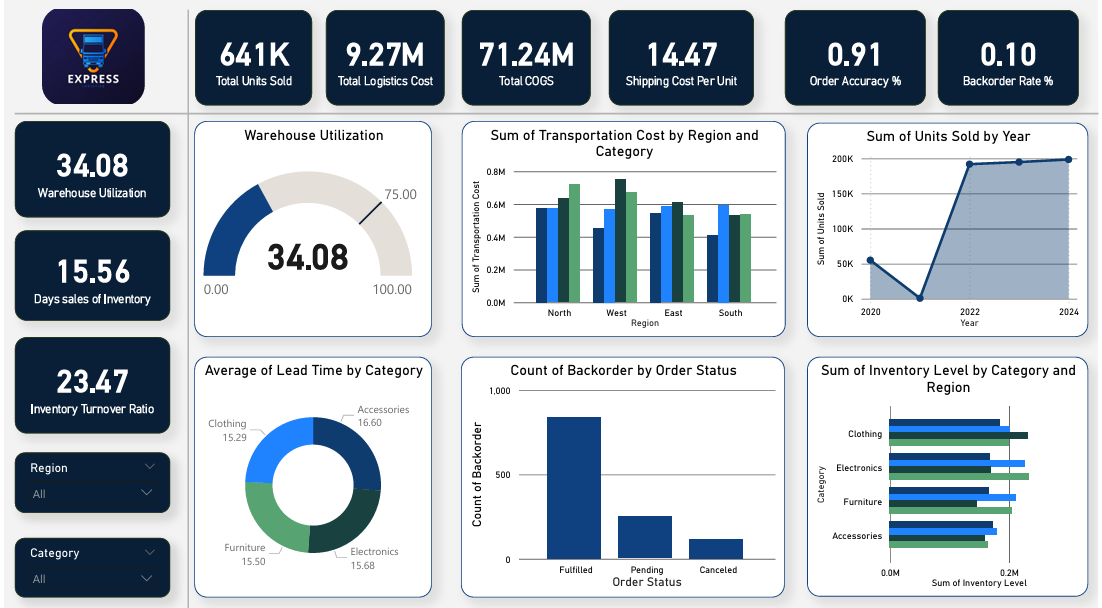

The page's visual inventory and layout, read from the dashboard file:
{"tool":"powerbi","page":{"name":"Page 1","canvas":[1280,720],"ordinal":0},"visuals":[{"type":"shape","box":[207.4,10.6,15.1,708.6],"z":0},{"type":"card","fields":{"Values":["Inventory and Supply Chain Dataset.Warehouse Utilization"]},"box":[11.8,141.1,182.2,113.1],"z":1000},{"type":"card","fields":{"Values":["Inventory and Supply Chain Dataset.Days sales of Inventory"]},"box":[11.8,268.9,182.2,105.8],"z":2000},{"type":"card","fields":{"Values":["Inventory and Supply Chain Dataset.Inventory Turnover Ratio"]},"box":[11.8,393.8,182.2,113.1],"z":3000},{"type":"slicer","fields":{"Values":["Inventory and Supply Chain Dataset.Region"]},"box":[11.8,529,182.2,70.5],"z":4000},{"type":"slicer","fields":{"Values":["Inventory and Supply Chain Dataset.Category"]},"box":[11.8,628.9,182.2,70.5],"z":5000},{"type":"gauge","fields":{"Y":["Inventory and Supply Chain Dataset.Warehouse Utilization"]},"box":[221.9,141.1,277.7,252.7],"z":6000},{"type":"clusteredColumnChart","fields":{"Y":["Sum(Inventory and Supply Chain Dataset.Transportation Cost)"],"Category":["Inventory and Supply Chain Dataset.Region"],"Series":["Inventory and Supply Chain Dataset.Category"]},"box":[534.9,141.1,379.1,252.7],"z":7000},{"type":"lineChart","fields":{"Y":["Sum(Inventory and Supply Chain Dataset.Units Sold)"],"Category":["Inventory and Supply Chain Dataset.Date.Variation.Date Hierarchy.Year"]},"box":[938.9,142.5,329.1,251.3],"z":8000},{"type":"donutChart","fields":{"Y":["Avg(Inventory and Supply Chain Dataset.Lead Time)"],"Category":["Inventory and Supply Chain Dataset.Category"]},"box":[221.9,417.3,277.7,282.1],"z":9000},{"type":"columnChart","fields":{"Y":["CountNonNull(Inventory and Supply Chain Dataset.Backorder)"],"Category":["Inventory and Supply Chain Dataset.Order Status"]},"box":[534.3,417.1,378.6,281.4],"z":10000},{"type":"clusteredBarChart","fields":{"Y":["Sum(Inventory and Supply Chain Dataset.Inventory Level)"],"Category":["Inventory and Supply Chain Dataset.Category"],"Series":["Inventory and Supply Chain Dataset.Region"]},"box":[939,417,329,281],"z":11000},{"type":"card","fields":{"Values":["Inventory and Supply Chain Dataset.Total Units Sold"]},"box":[222.6,10.6,137.8,112.1],"z":12000},{"type":"card","fields":{"Values":["Inventory and Supply Chain Dataset.Total Logistics Cost"]},"box":[375.5,10.6,139.3,112.1],"z":13000},{"type":"card","fields":{"Values":["Inventory and Supply Chain Dataset.Total COGS"]},"box":[534.5,10.6,151.4,112.1],"z":14000},{"type":"card","fields":{"Values":["Inventory and Supply Chain Dataset.Shipping Cost Per Unit"]},"box":[707.1,10.6,169.6,112.1],"z":15000},{"type":"card","fields":{"Values":["Inventory and Supply Chain Dataset.Order Accuracy %"]},"box":[913.1,10.6,165,112.1],"z":16000},{"type":"card","fields":{"Values":["Inventory and Supply Chain Dataset.Backorder Rate %"]},"box":[1091.7,10.6,165,112.1],"z":17000},{"type":"shape","box":[12.1,122.7,1267.4,19.7],"z":18000},{"type":"image","box":[43.9,7.6,119.6,115.1],"z":19000}]}

Visuals, with their boxes in screenshot pixels (x1, y1, x2, y2), scaled from the page's 1280x720 canvas onto the 1102x608 screenshot:
shape: (x1=179, y1=9, x2=192, y2=607)
card - Inventory and Supply Chain Dataset.Warehouse Utilization: (x1=10, y1=119, x2=167, y2=215)
card - Inventory and Supply Chain Dataset.Days sales of Inventory: (x1=10, y1=227, x2=167, y2=316)
card - Inventory and Supply Chain Dataset.Inventory Turnover Ratio: (x1=10, y1=333, x2=167, y2=428)
slicer - Inventory and Supply Chain Dataset.Region: (x1=10, y1=447, x2=167, y2=506)
slicer - Inventory and Supply Chain Dataset.Category: (x1=10, y1=531, x2=167, y2=591)
gauge - Inventory and Supply Chain Dataset.Warehouse Utilization: (x1=191, y1=119, x2=430, y2=333)
clusteredColumnChart - Sum(Inventory and Supply Chain Dataset.Transportation Cost) x Inventory and Supply Chain Dataset.Region: (x1=461, y1=119, x2=787, y2=333)
lineChart - Sum(Inventory and Supply Chain Dataset.Units Sold) x Inventory and Supply Chain Dataset.Date.Variation.Date Hierarchy.Year: (x1=808, y1=120, x2=1092, y2=333)
donutChart - Avg(Inventory and Supply Chain Dataset.Lead Time) x Inventory and Supply Chain Dataset.Category: (x1=191, y1=352, x2=430, y2=591)
columnChart - CountNonNull(Inventory and Supply Chain Dataset.Backorder) x Inventory and Supply Chain Dataset.Order Status: (x1=460, y1=352, x2=786, y2=590)
clusteredBarChart - Sum(Inventory and Supply Chain Dataset.Inventory Level) x Inventory and Supply Chain Dataset.Category: (x1=808, y1=352, x2=1092, y2=589)
card - Inventory and Supply Chain Dataset.Total Units Sold: (x1=192, y1=9, x2=310, y2=104)
card - Inventory and Supply Chain Dataset.Total Logistics Cost: (x1=323, y1=9, x2=443, y2=104)
card - Inventory and Supply Chain Dataset.Total COGS: (x1=460, y1=9, x2=591, y2=104)
card - Inventory and Supply Chain Dataset.Shipping Cost Per Unit: (x1=609, y1=9, x2=755, y2=104)
card - Inventory and Supply Chain Dataset.Order Accuracy %: (x1=786, y1=9, x2=928, y2=104)
card - Inventory and Supply Chain Dataset.Backorder Rate %: (x1=940, y1=9, x2=1082, y2=104)
shape: (x1=10, y1=104, x2=1101, y2=120)
image: (x1=38, y1=6, x2=141, y2=104)
